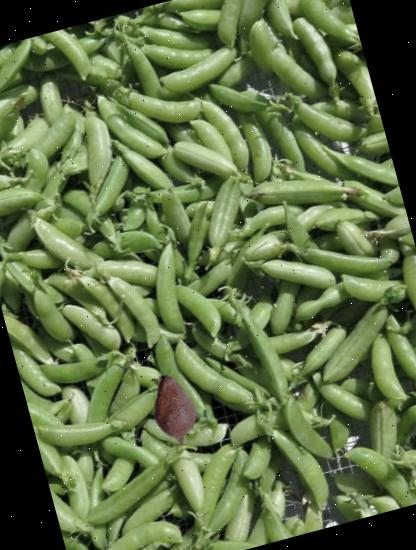Salak: (128, 365, 220, 457)
